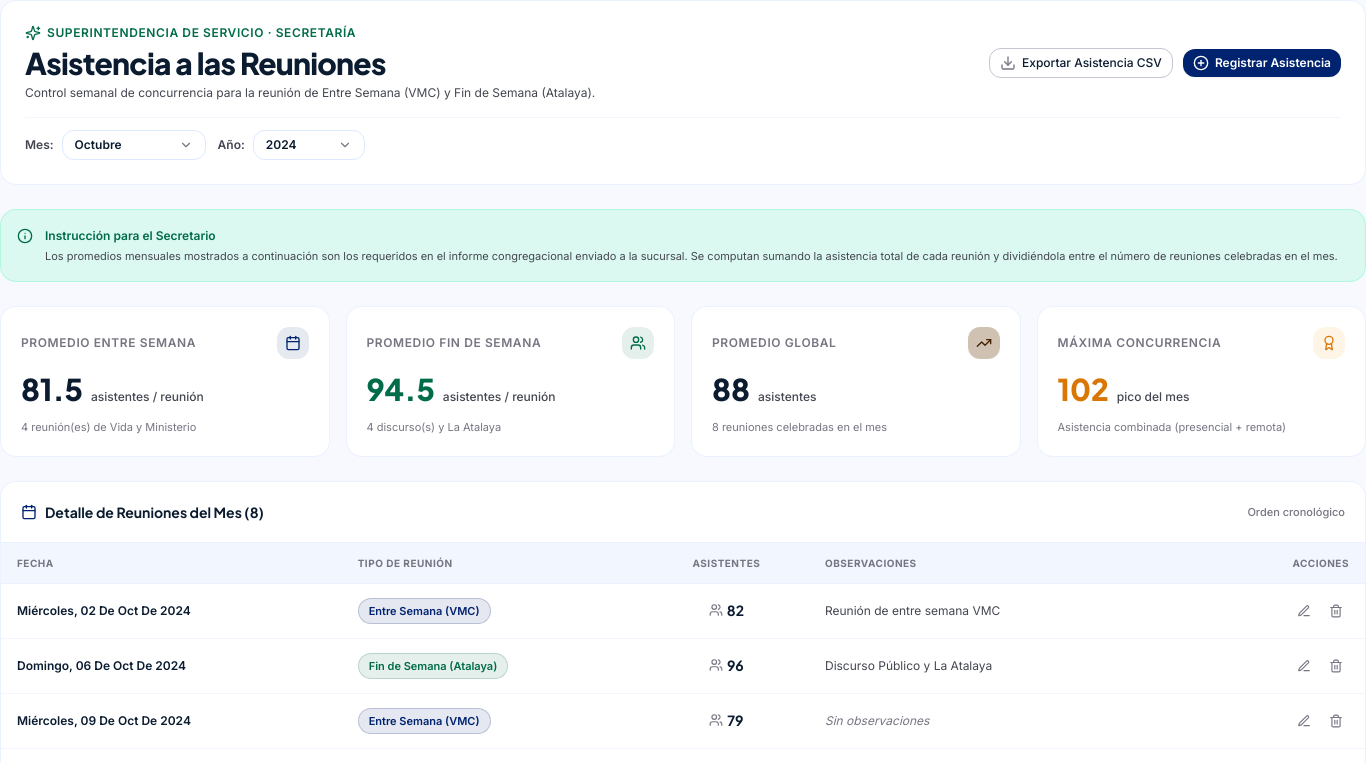
Test: MeetingAttendancePage › abre el modal y permite registrar una nueva asistencia
Expected: the text "81.5" is shown, x1=21 y1=371 x2=83 y2=407
Step 1. Click the button "Registrar Asistencia" → (1262,63), box x1=1183 y1=49 x2=1341 y2=77
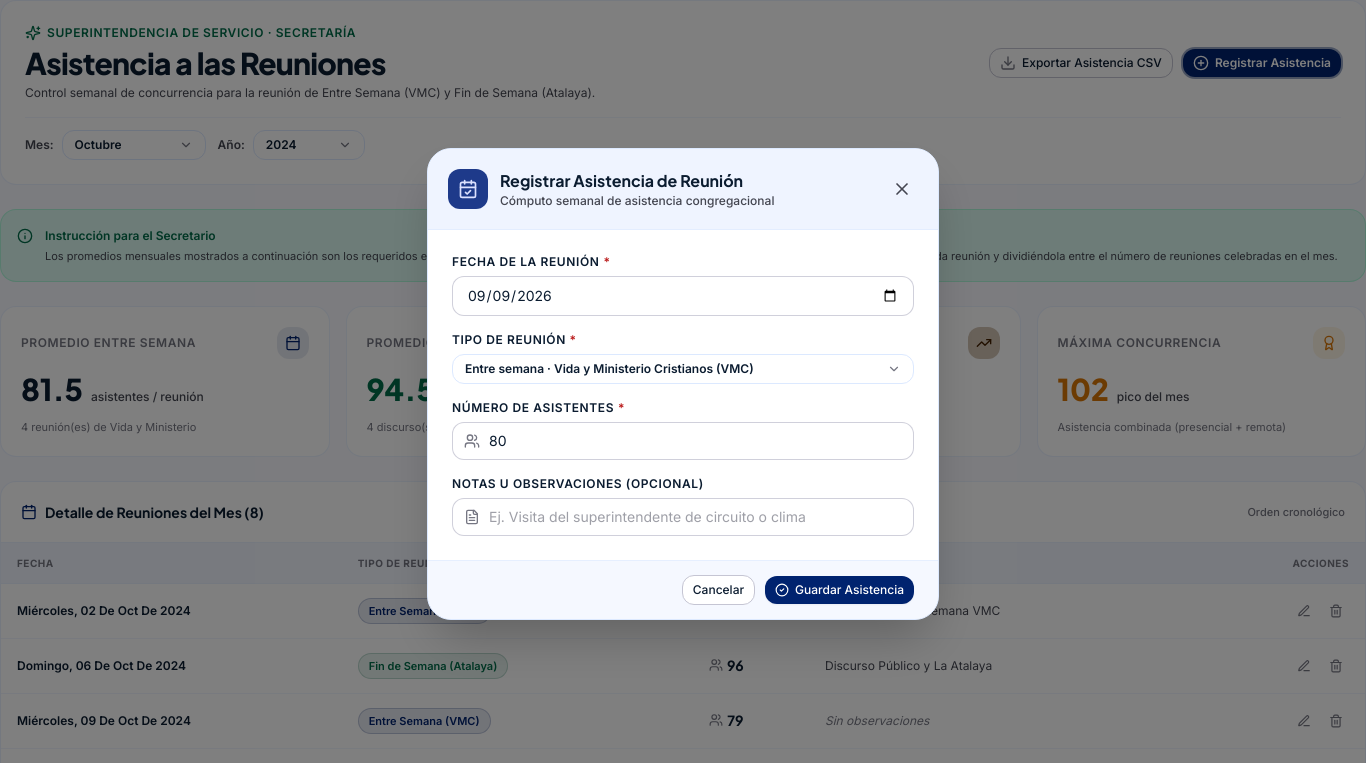
Expected: the heading "Registrar Asistencia de Reunión" is shown, x1=500 y1=169 x2=774 y2=193
Step 2. Replace the text in the number field with placeholder "Ej. 85" with "95" → (683,441), box x1=452 y1=422 x2=914 y2=460
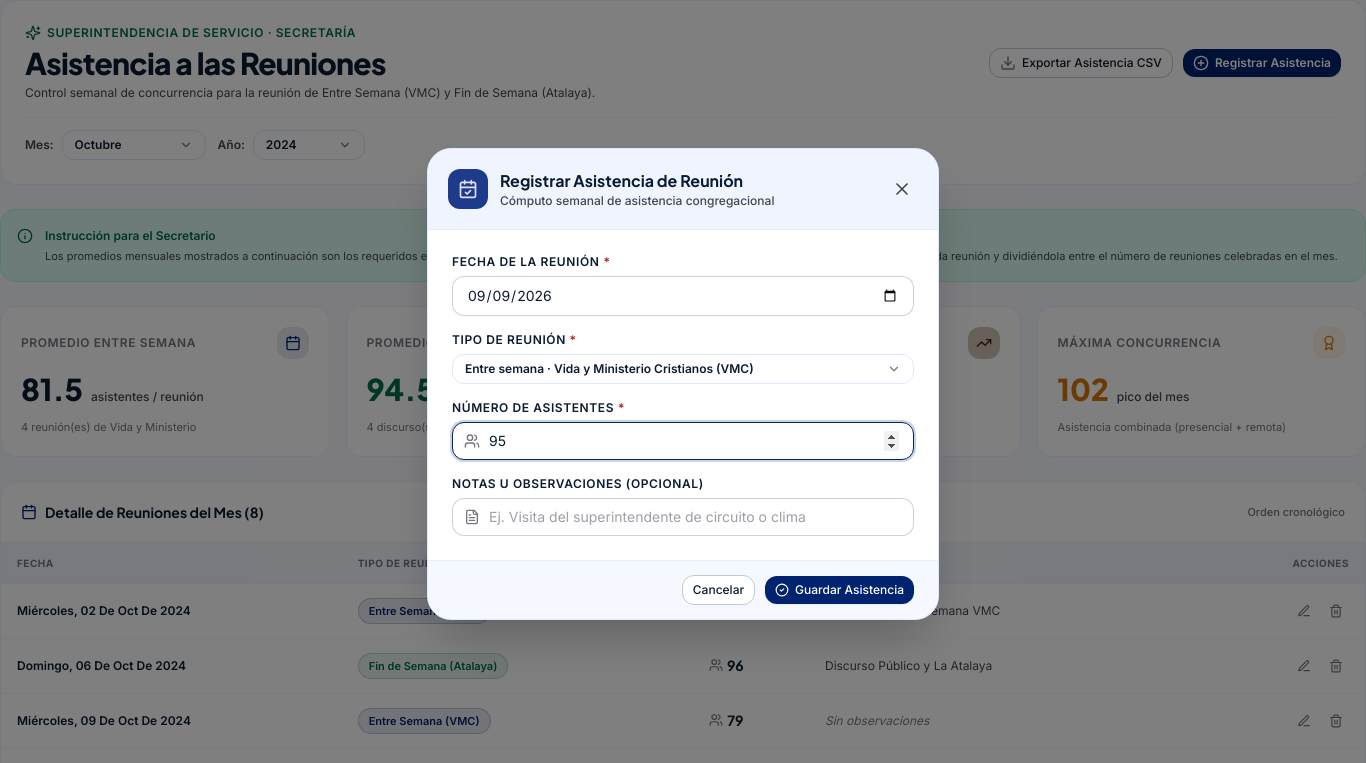
Step 3. Click the button "Guardar Asistencia" → (840,590), box x1=765 y1=576 x2=914 y2=604
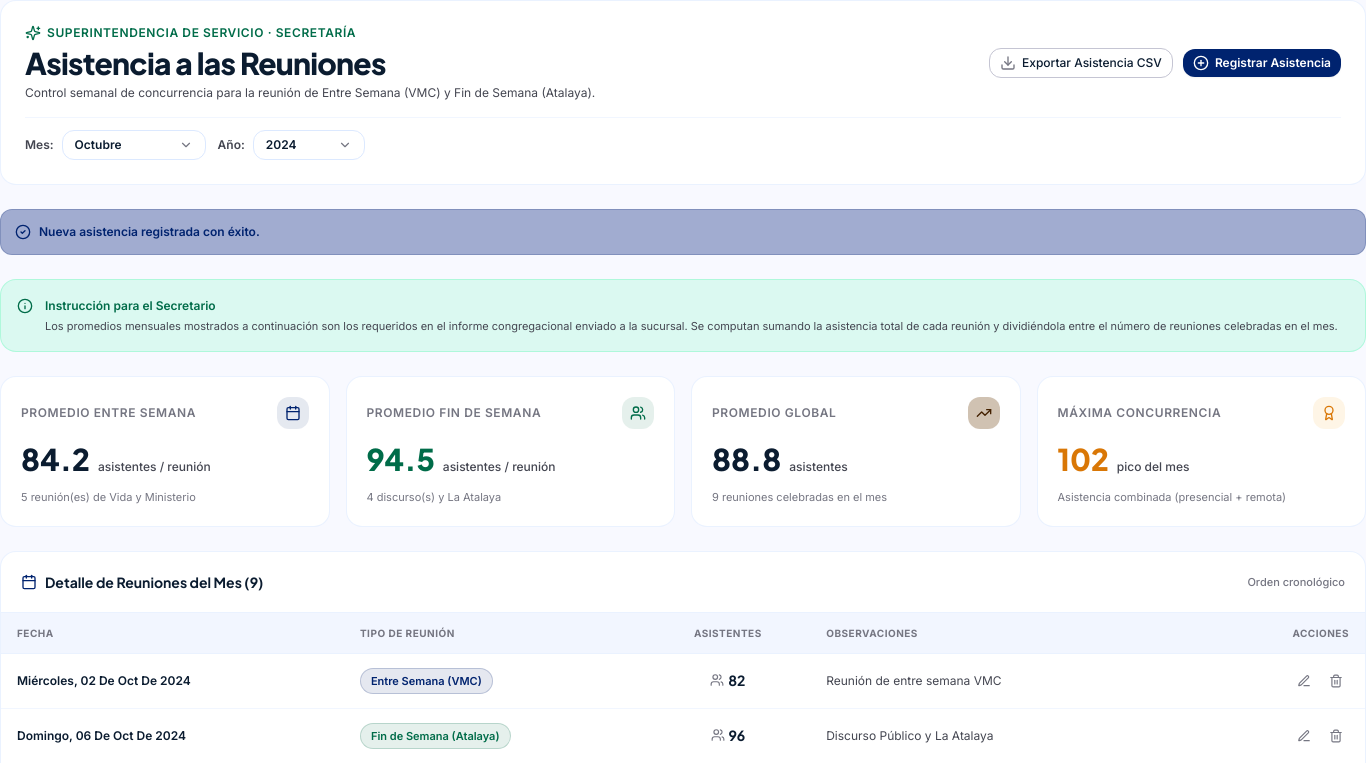
Expected: the text "Nueva asistencia registrada con éxito." is shown, x1=39 y1=224 x2=260 y2=240
